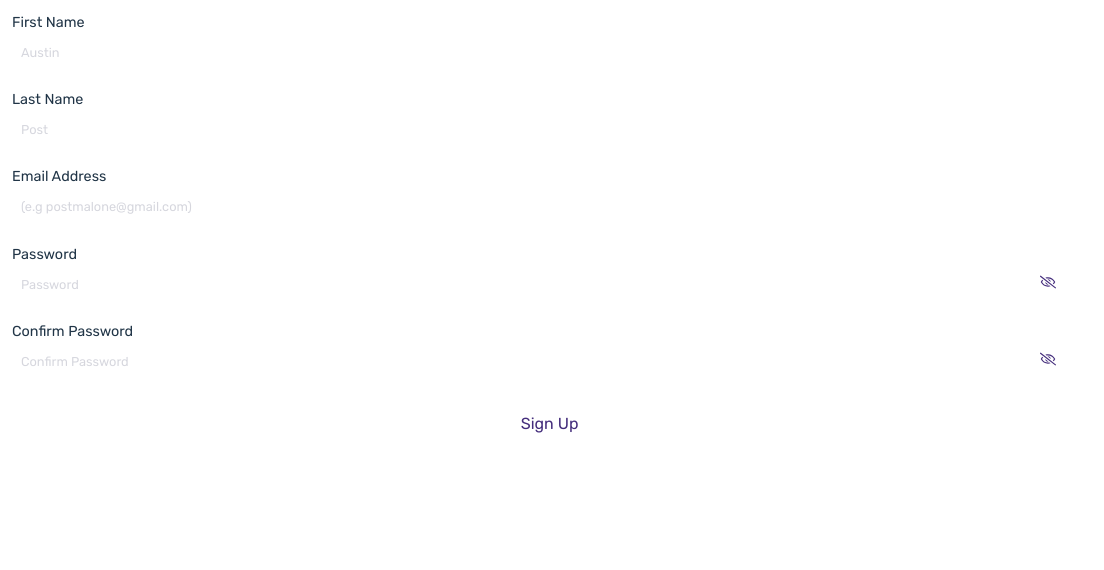
it: SignUpForm › shows required errors when submitted empty
Step 1. Click the button → coordinates (550, 424), box [12,404,1087,444]
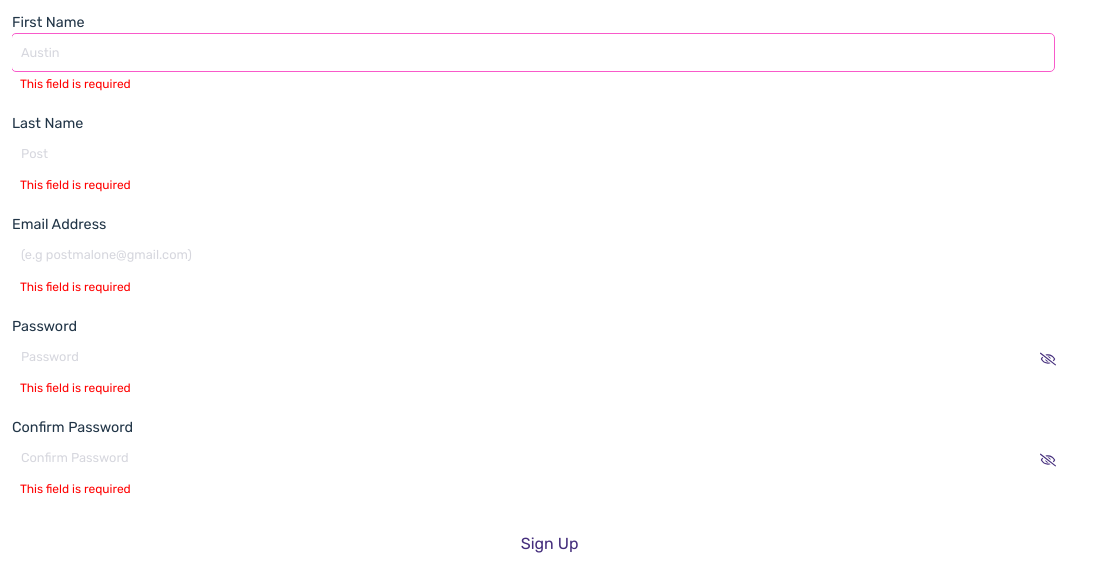
Expected: the text "This field is required" below "First Name" is shown, [20,77,131,91]
